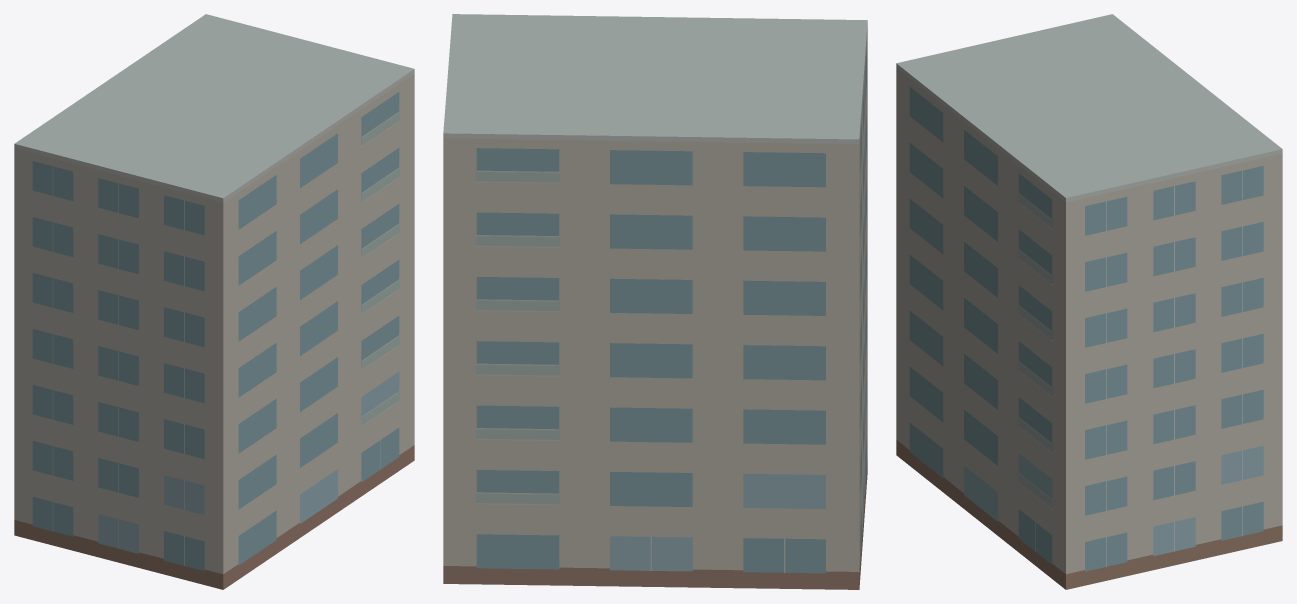
File: survey-upis-33045912.glb
3 views of the same model, side by side, from view 1: azimuth 30°, elevation 25°; view 2: azimuth 150°, elevation 25°; view 3: azimuth 270°, elevation 25° (orthographic). The views are drawn at different scales.
Visible parts, largest first — view 1: survey-upis-33045912.tmp; view 2: survey-upis-33045912.tmp; view 3: survey-upis-33045912.tmp.
Boxes of the visible parts, box(x1,y1,x2,y2) form: survey-upis-33045912.tmp: box(14, 14, 414, 589); survey-upis-33045912.tmp: box(443, 14, 867, 589); survey-upis-33045912.tmp: box(896, 14, 1282, 589).
Bounding box in the file's own units: 21.95 × 21.78 × 19.48.
